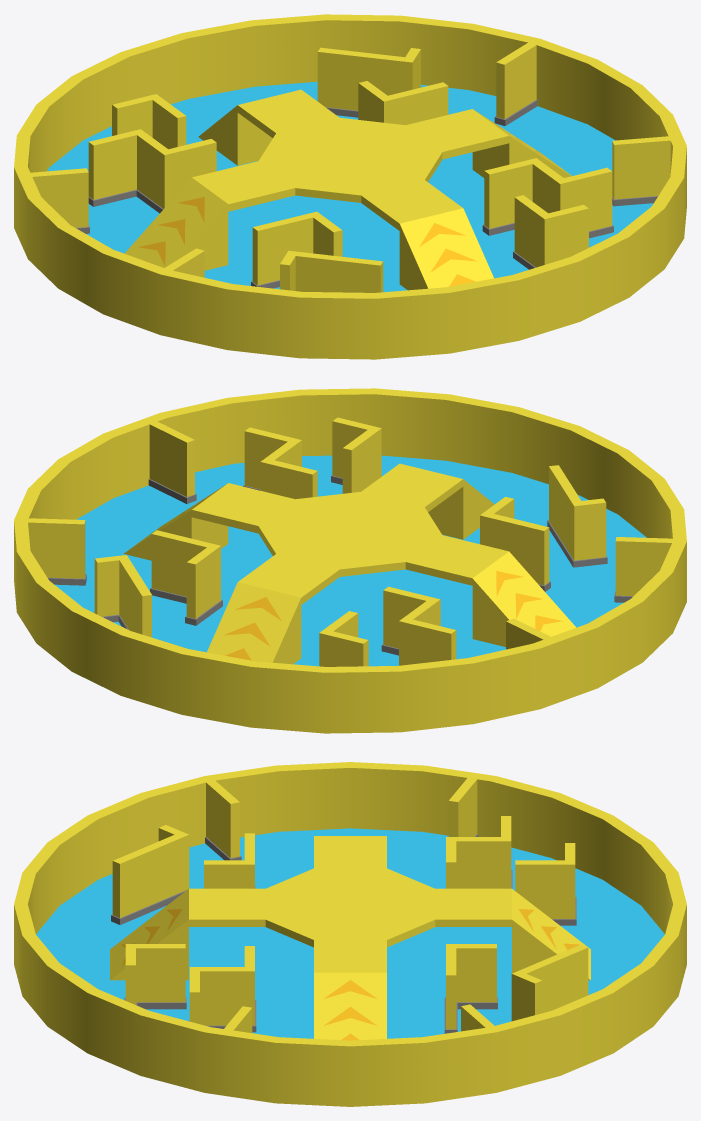
File: Location7.fbx
The picture shows the model from 3 angles, top to bottom: view 1: azimuth 30°, elevation 25°; view 2: azimuth 150°, elevation 25°; view 3: azimuth 270°, elevation 25°; orthographic projection.
Visible parts, largest first — view 1: outer_wall.07, wall.07, bridge.07, floor.07; view 2: outer_wall.07, wall.07, bridge.07, floor.07; view 3: outer_wall.07, wall.07, floor.07, bridge.07.
Boxes of the visible parts, <box> form: outer_wall.07: <box>14,14,686,359</box>; wall.07: <box>23,15,677,297</box>; bridge.07: <box>124,89,571,290</box>; floor.07: <box>47,81,653,292</box>; outer_wall.07: <box>14,388,686,733</box>; wall.07: <box>21,389,683,671</box>; bridge.07: <box>123,463,576,664</box>; floor.07: <box>55,455,646,666</box>; outer_wall.07: <box>14,762,686,1106</box>; wall.07: <box>16,763,685,1045</box>; floor.07: <box>36,828,664,1038</box>; bridge.07: <box>110,836,590,1040</box>.
Bounding box in the file's own units: 1838 × 183 × 1838.
